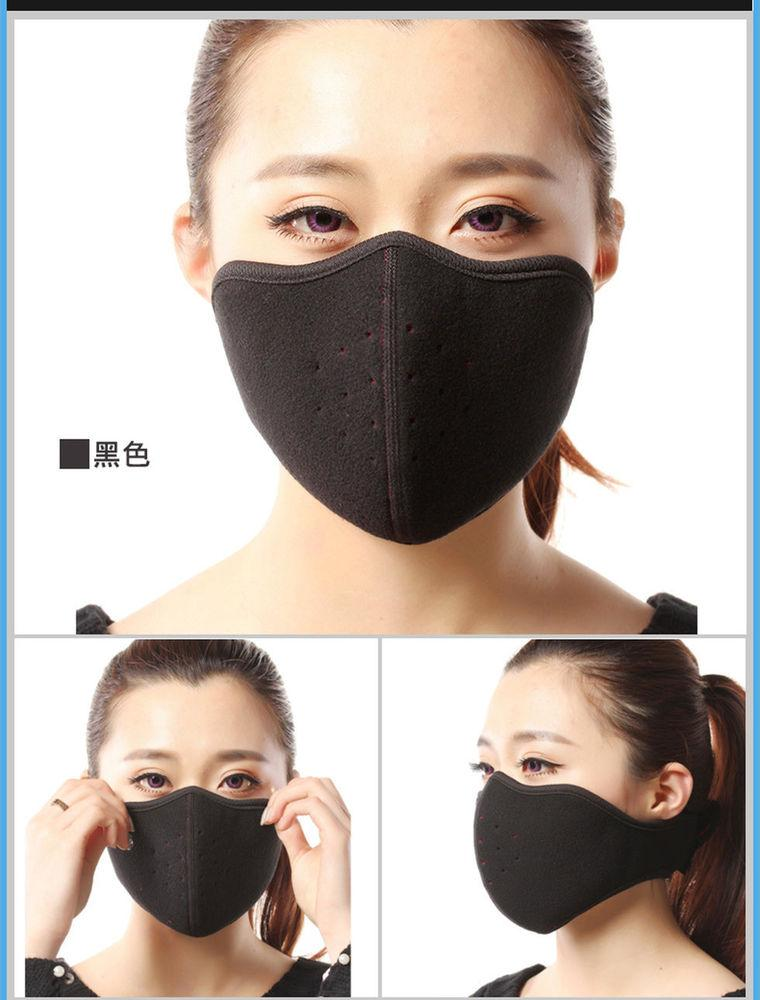Wearing Mask: (129, 4, 686, 554), (21, 548, 372, 970), (453, 560, 760, 1000)
